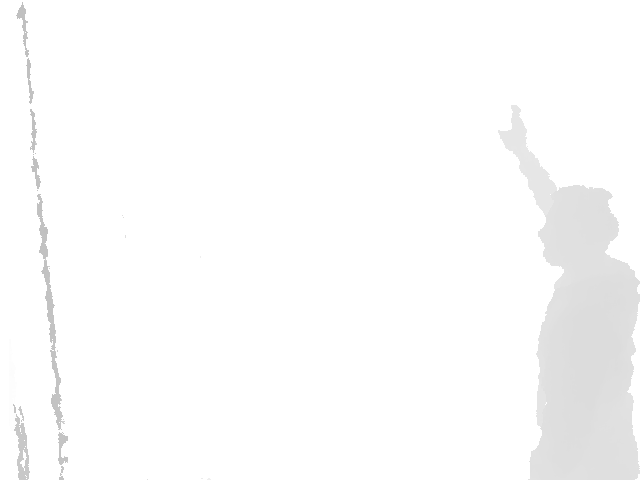hand: (498, 104, 528, 153)
head: (538, 185, 620, 270)
person: (497, 104, 640, 480)
